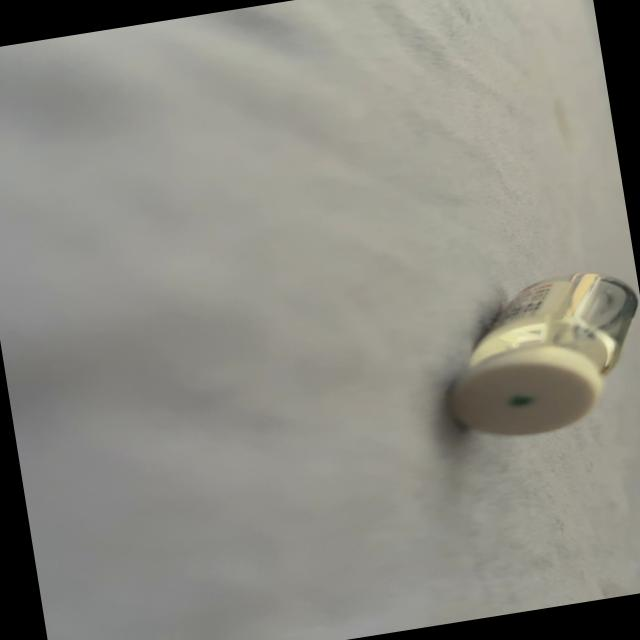fentanl_citrat: (432, 267, 640, 445)
